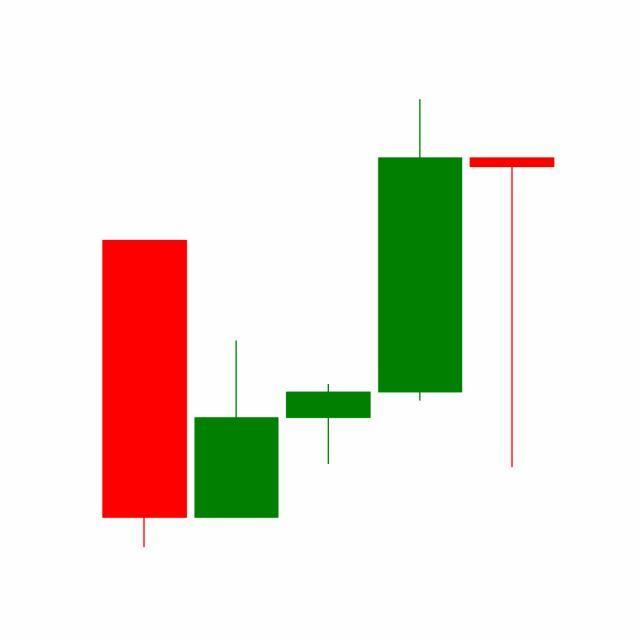Dragonfly Doji: (466, 155, 559, 472)
